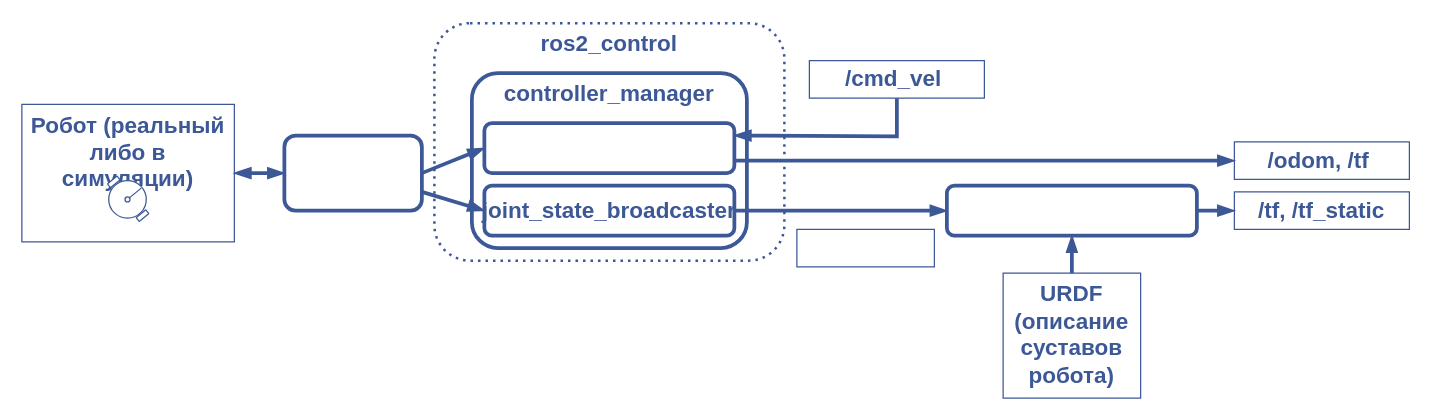
This 1431x420 diagram has some shape labels left out. The centre of each missing label's shape, as x and y in pixels:
/joint_states: the point at 865,247
diff_drive_controller: the point at 609,147
robot_state_publisher: the point at 1071,210
Аппаратный интерфейс: the point at 352,172
